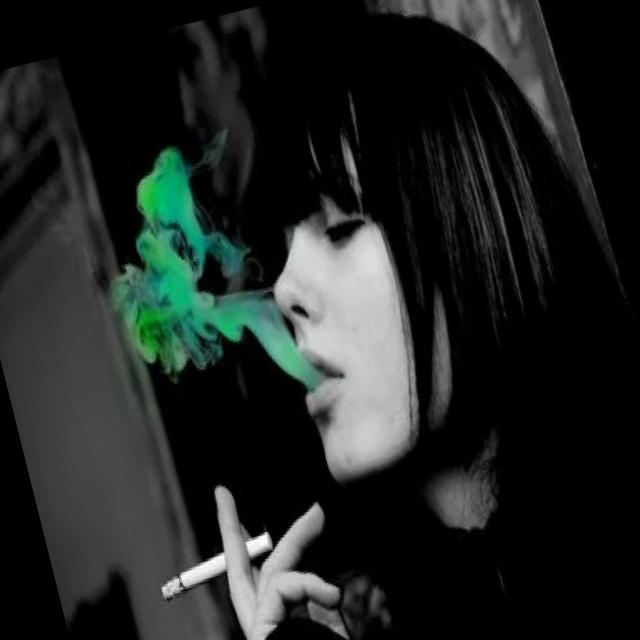cigarette: (152, 528, 282, 603)
